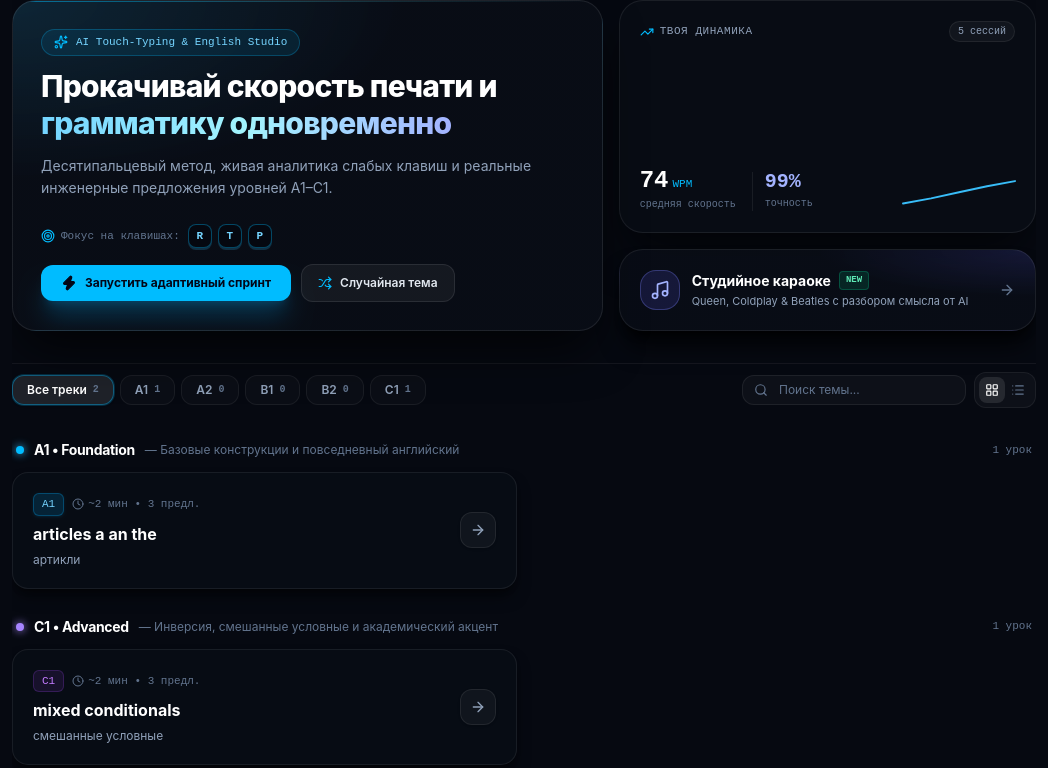
Scenario: Criterion 8: Component Rendering and User Interactions › TopicSelector: filters topics using instant search input
In the field with test id "topic-search-input": (854, 390) [742,375,966,405], type "mixed"
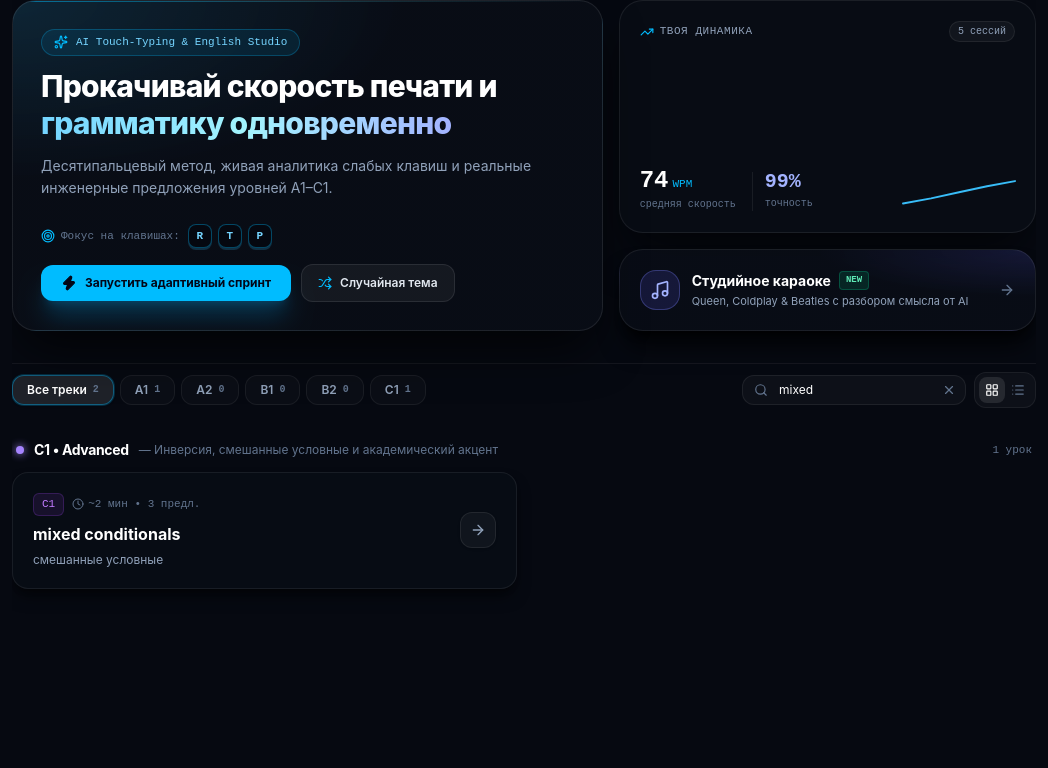
Check: the element with test id "topic-card-c1-mixed-cond" is shown, box [12,472,517,588]
Check: the element with test id "topic-card-a1-articles" is gone
